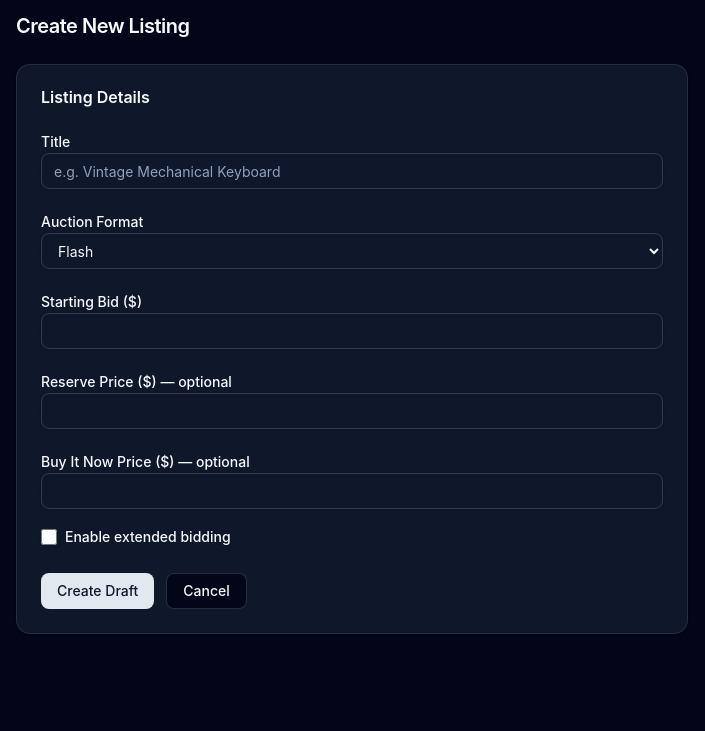
CreateListingPage › shows duration field when Timed format is selected
Expected: the field labelled "Title" is shown, [41,153,663,189]
Expected: the field labelled "Duration" is not shown
Select "Timed" in the dropdown labelled "Auction Format". click: (352, 251)
box: [41,233,663,269]
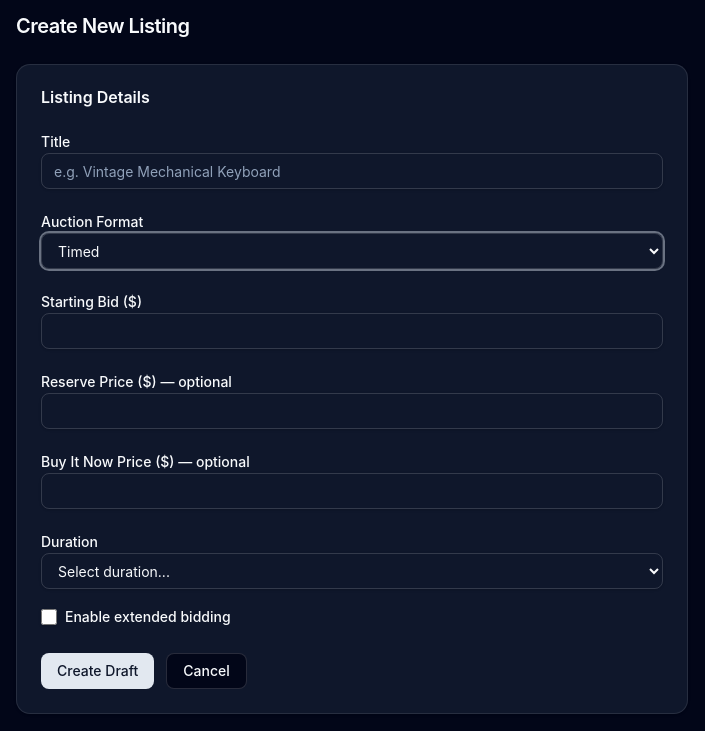
Expected: the dropdown labelled "Duration" is shown, [41,553,663,589]
